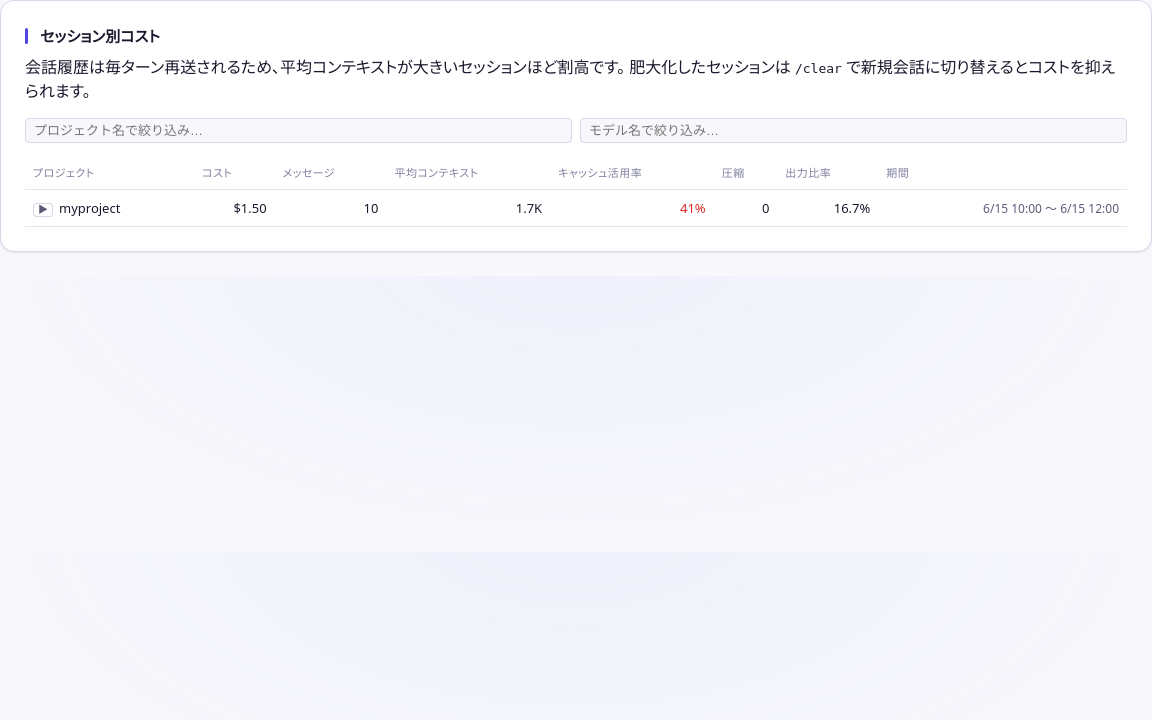
Test: SessionBreakdown › 展開行の colSpan が圧縮列追加後も正しく全列を覆う
The image size is (1152, 720).
Click the button named "詳細を展開" at [43, 210], box left=33, top=203, right=53, bottom=217
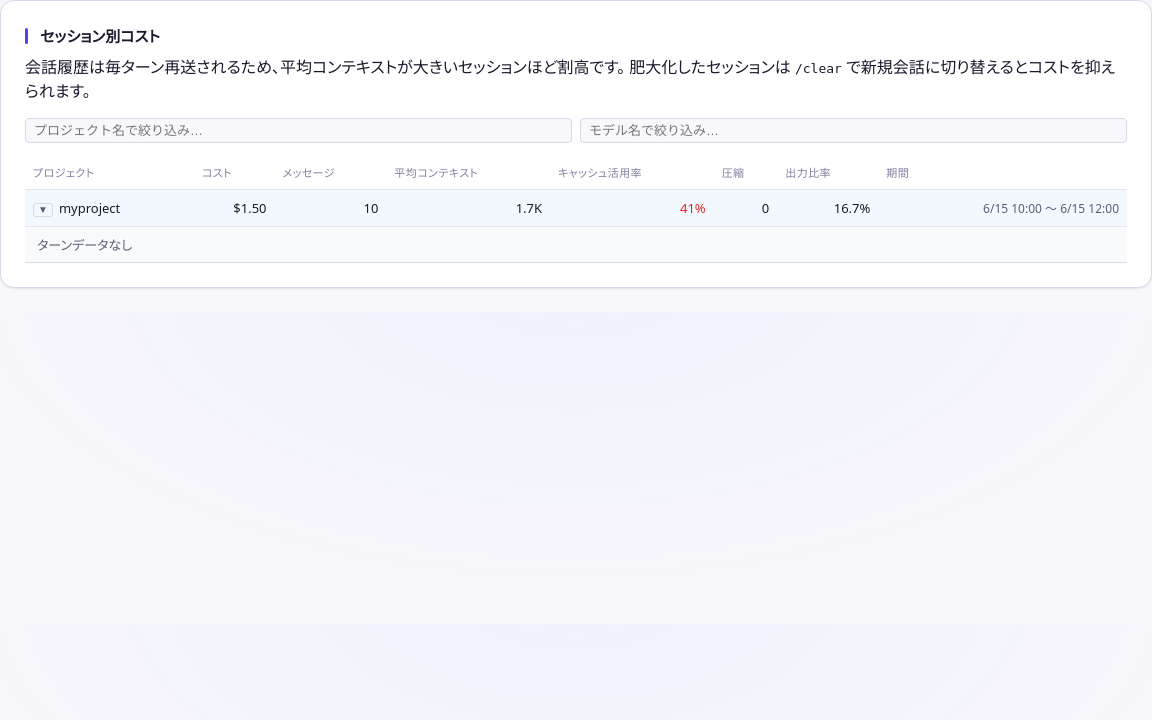
Now the text "ターンデータなし" is shown, box left=37, top=236, right=132, bottom=254
